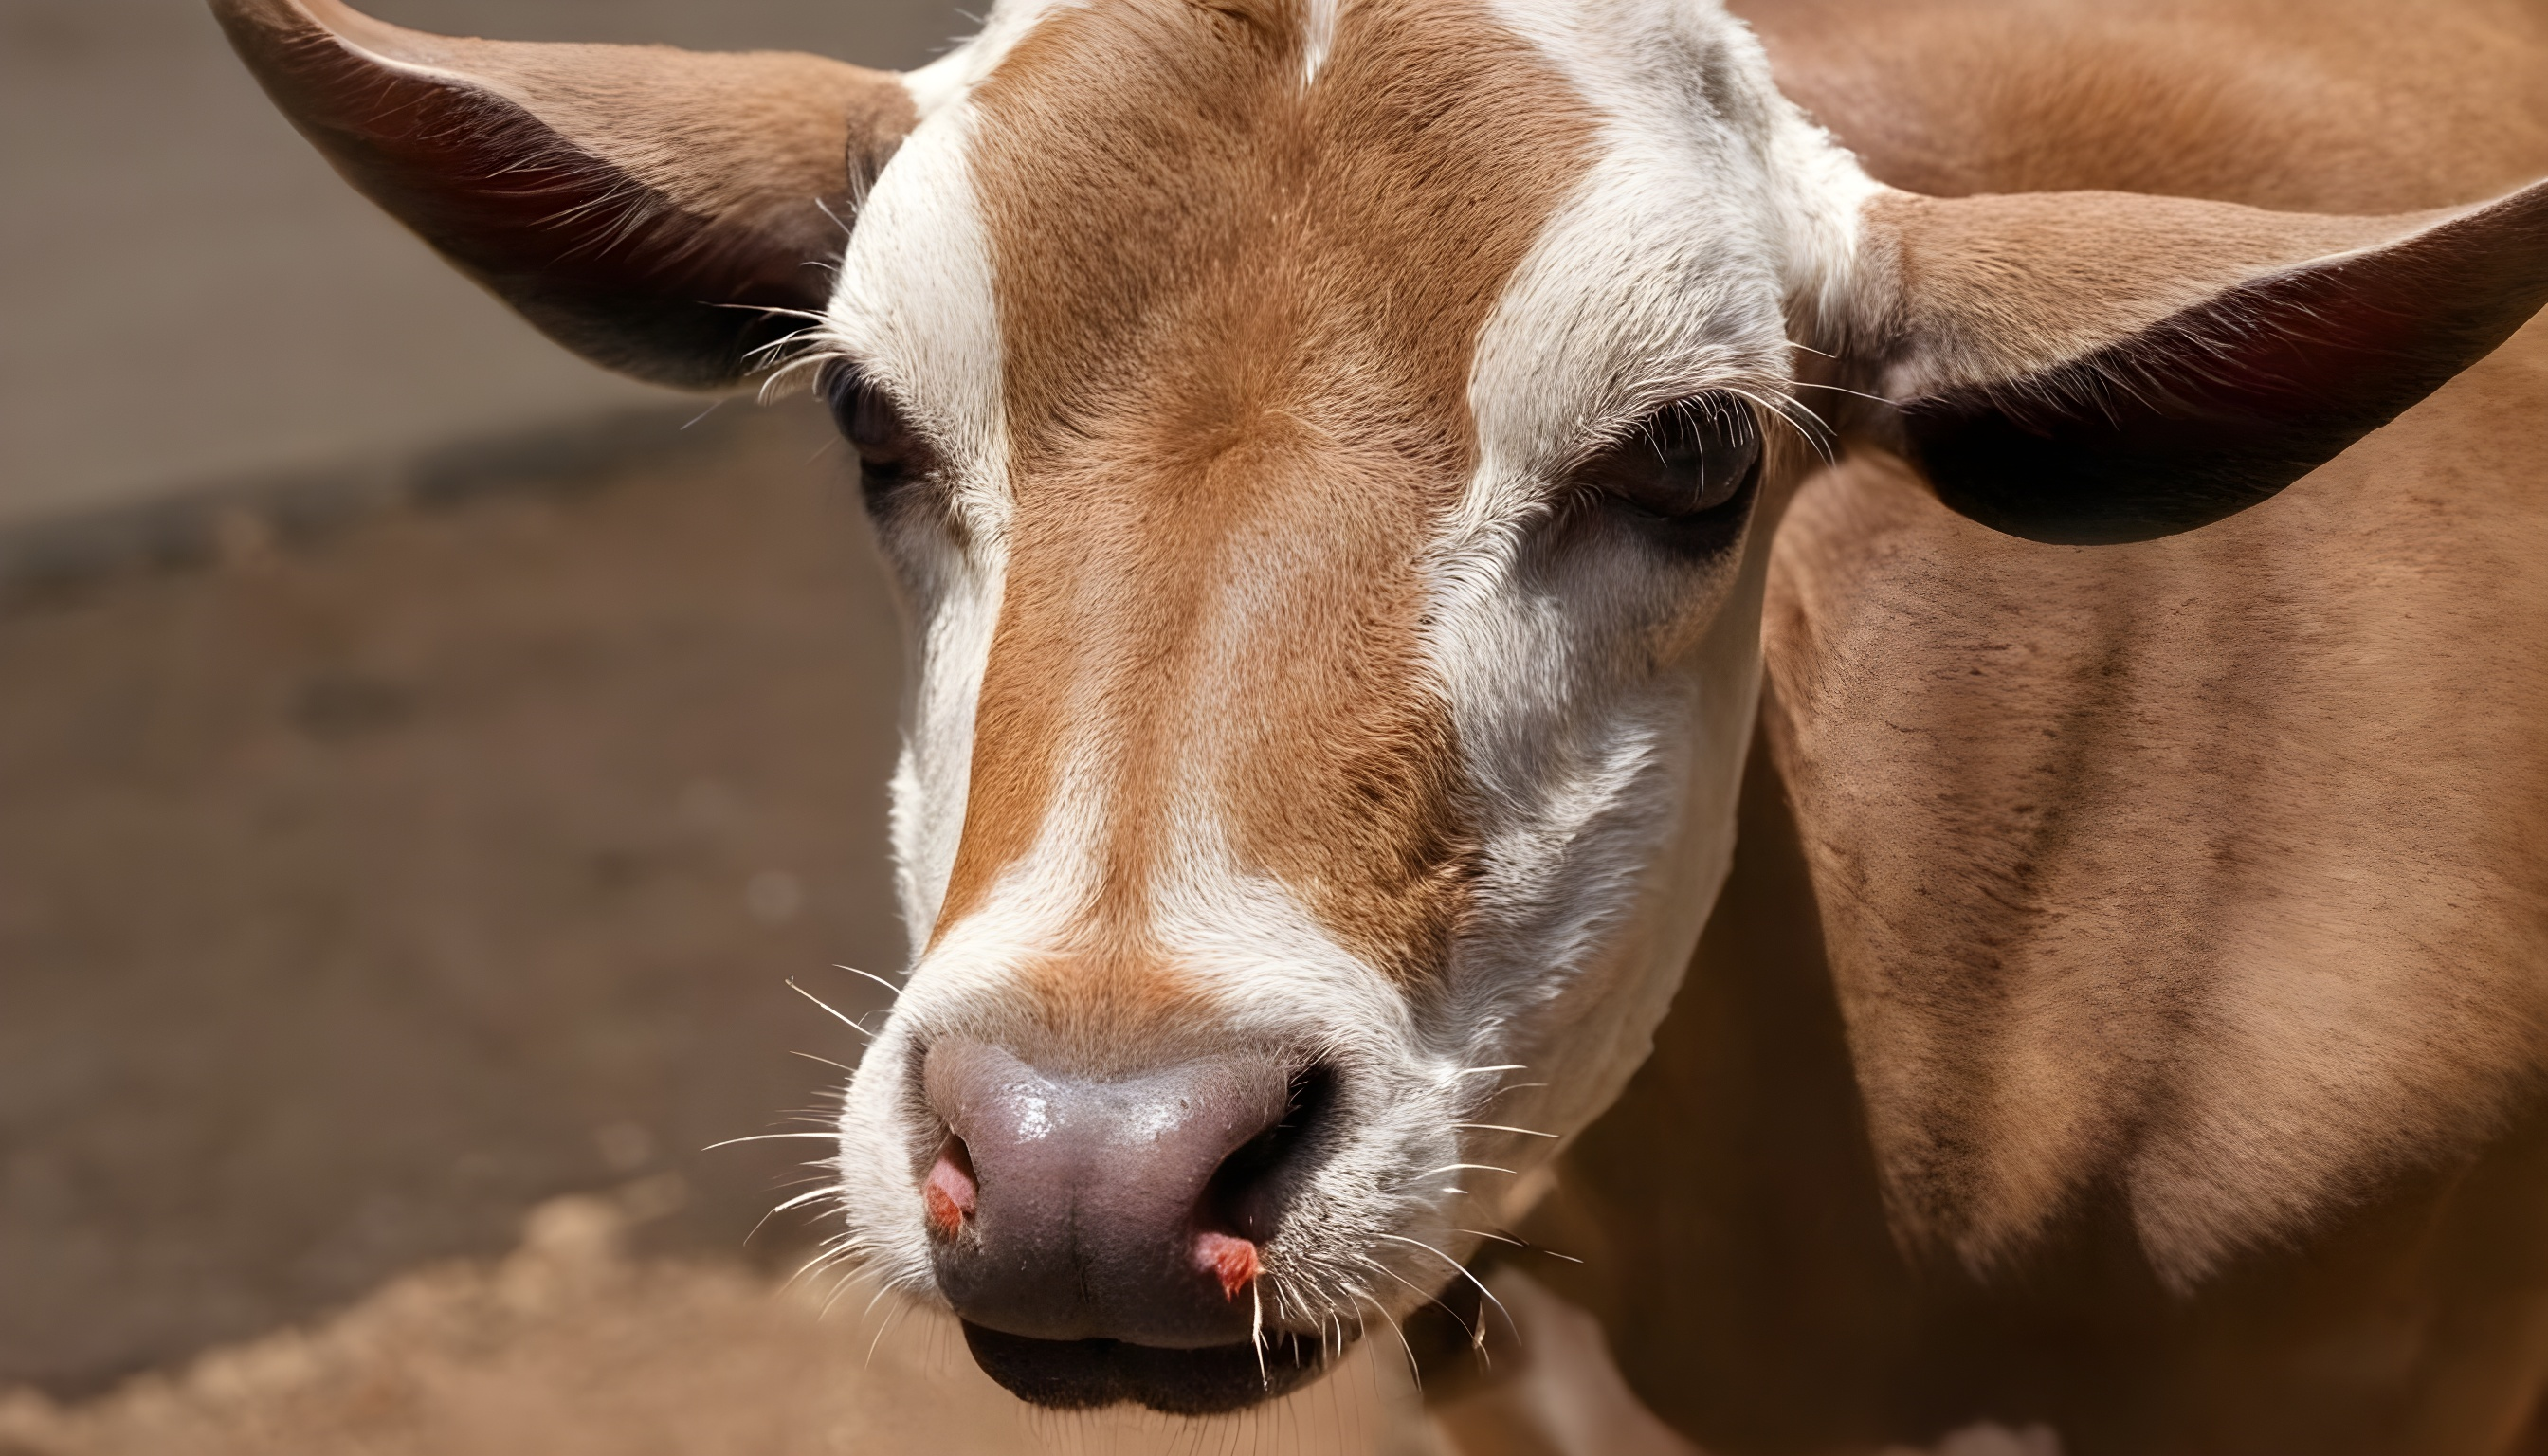ppr: (892, 1143, 1321, 1325)
